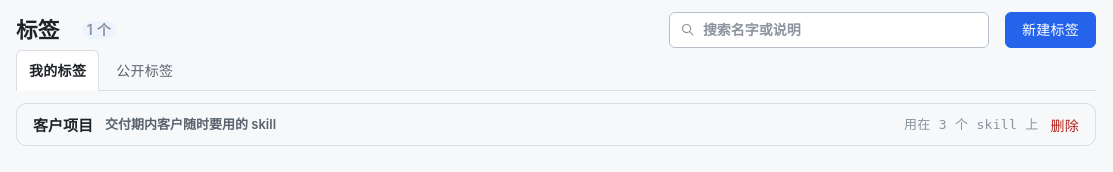
Test case: editing in place › writes the description on Enter and clears it to null
Click the button with class "tag-desc": (191, 124) x1=105 y1=115 x2=892 y2=134
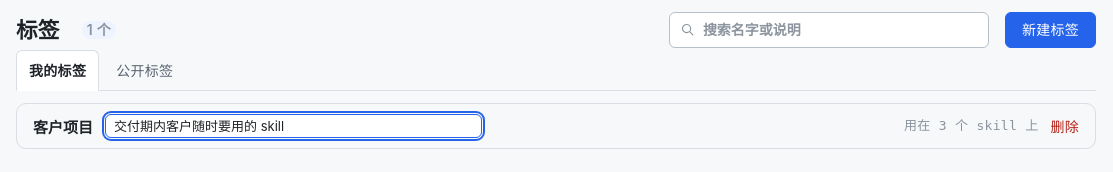
Clear the field with id "tagDescription": (294, 126) x1=105 y1=114 x2=482 y2=138
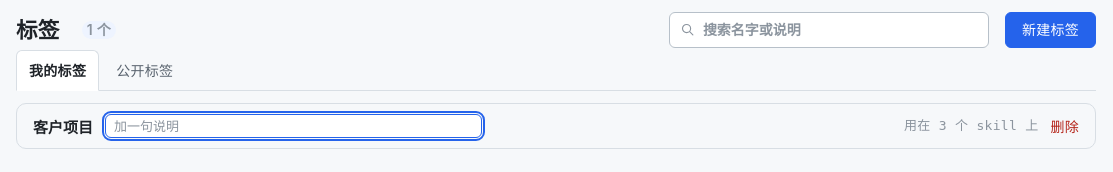
Press Enter in the field with id "tagDescription", box x1=105 y1=114 x2=482 y2=138
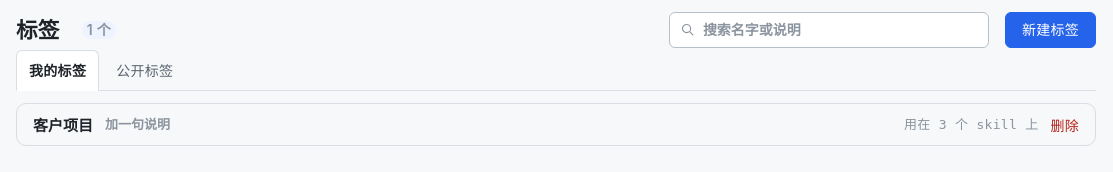
Result: the button with class "tag-desc" reads "加一句说明" at x1=105 y1=115 x2=892 y2=134
